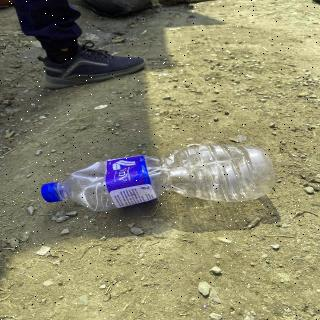Plastic-bottle: (39, 143, 281, 217)
